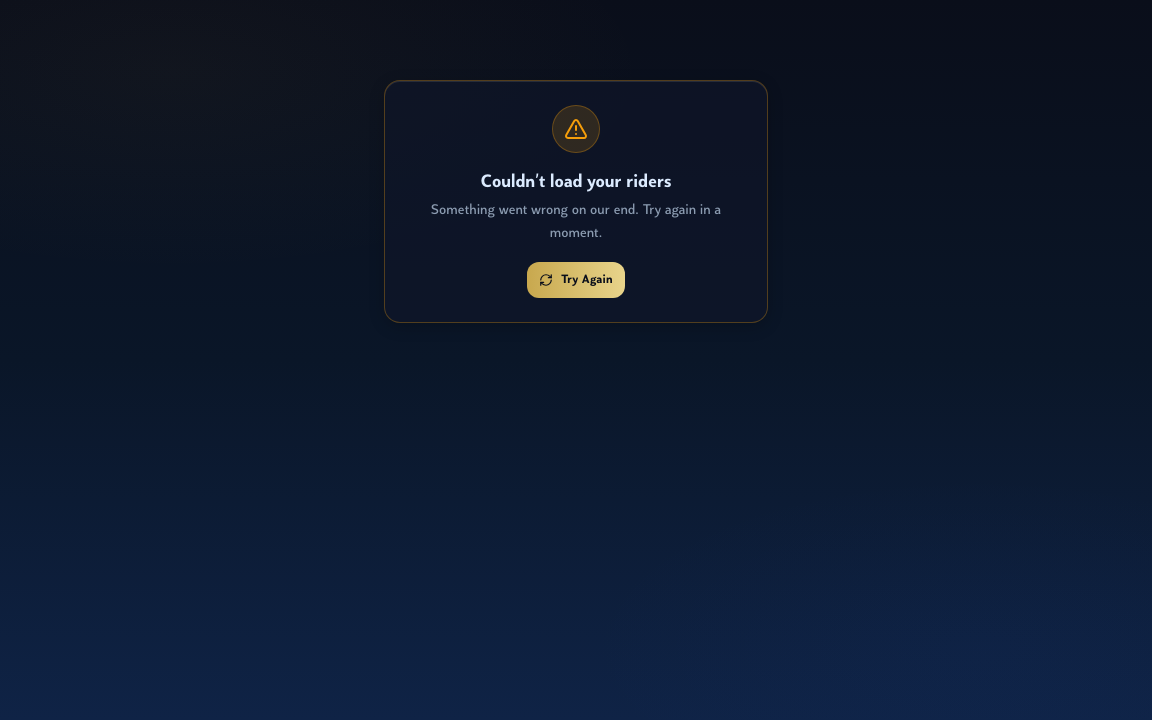
Scenario: MyRidersDashboard — four-state doctrine (Equoria-5urmo) › the error-state retry refetches — first load fails, retry recovers to the grid
Click the button "Try Again": x=576, y=280 [527, 262, 625, 298]
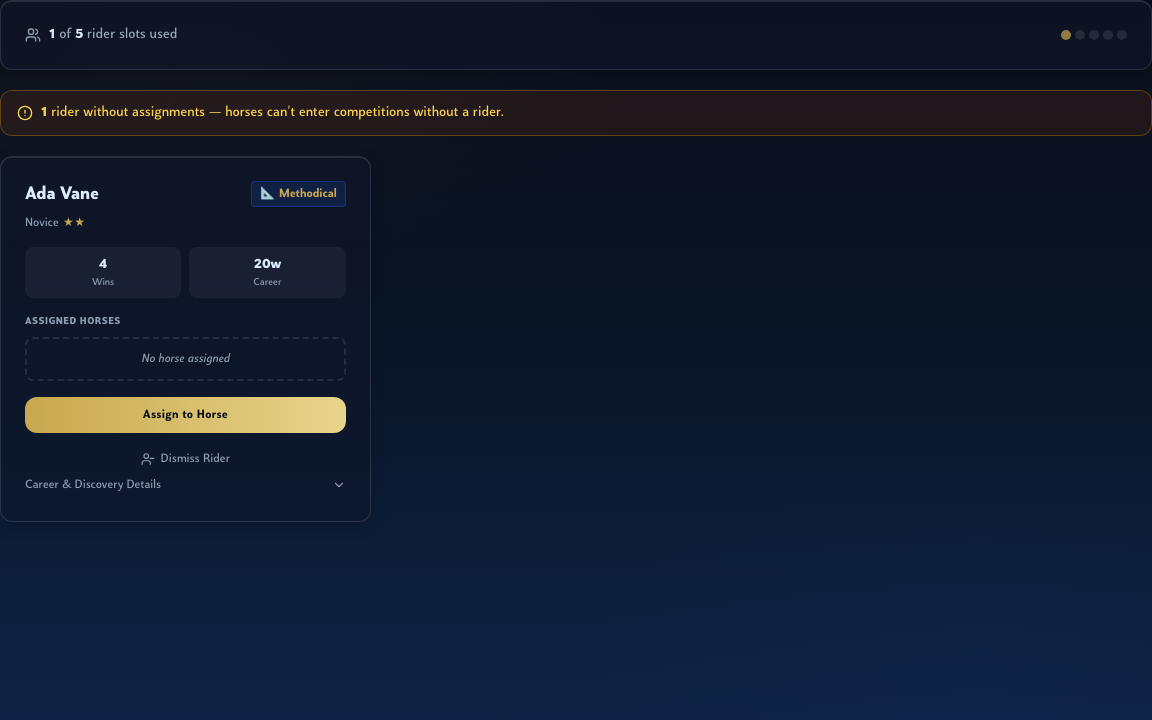
Now the element with test id "rider-grid" is shown, box [0, 156, 371, 522]
